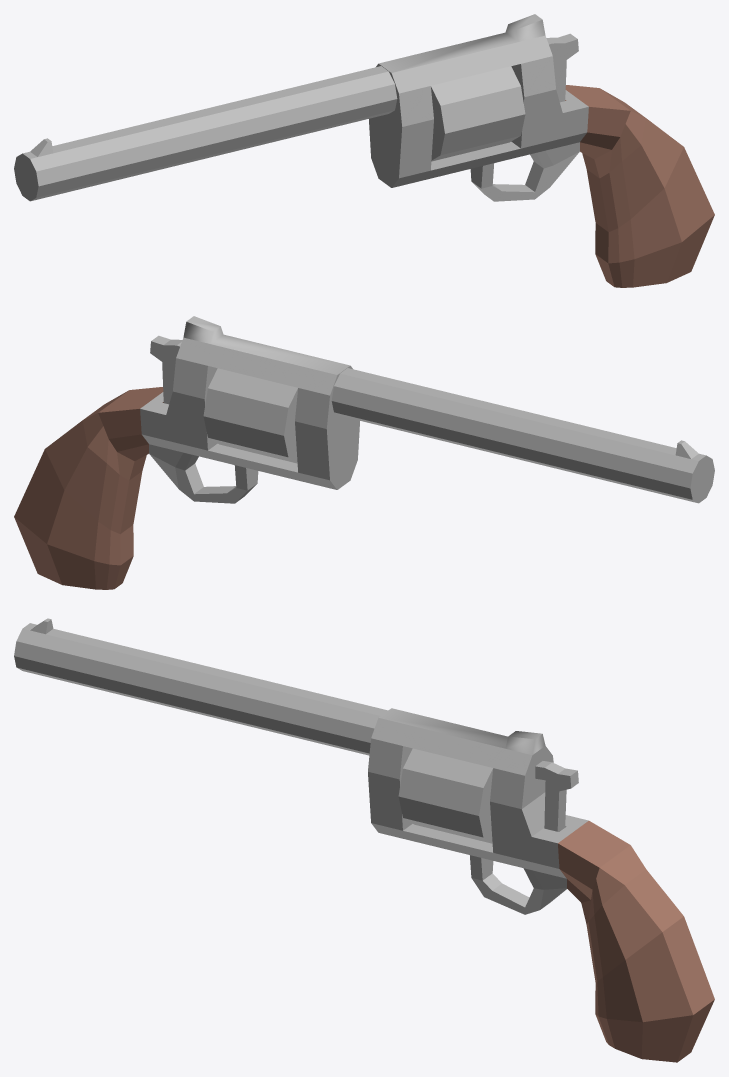
File: Gun.fbx
3 renders of one model, top to bottom at view 1: azimuth 30°, elevation 25°; view 2: azimuth 150°, elevation 25°; view 3: azimuth 330°, elevation 25°, orthographic.
Visible parts, largest first — view 1: GunHandler, GunPipe, GunBarrel, GunCock; view 2: GunHandler, GunPipe, GunBarrel, GunCock; view 3: GunHandler, GunPipe, GunBarrel, GunCock.
Boxes of the visible parts, x1,y1,x2,y2 form: GunHandler: (369, 14, 714, 287); GunPipe: (14, 66, 397, 201); GunBarrel: (431, 66, 525, 161); GunCock: (546, 33, 578, 102); GunHandler: (14, 316, 359, 589); GunPipe: (331, 368, 714, 503); GunBarrel: (203, 368, 297, 463); GunCock: (150, 335, 182, 404); GunHandler: (368, 708, 714, 1062); GunPipe: (14, 618, 387, 755); GunBarrel: (398, 748, 493, 843); GunCock: (535, 761, 578, 831).
Size of the model in its own units: 593 by 239 by 70.41.
